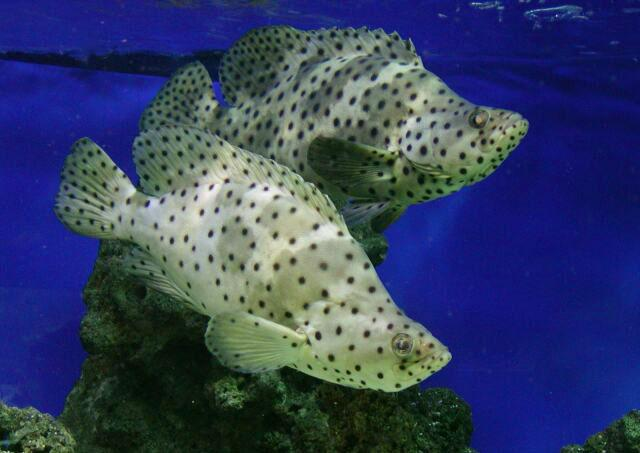Mulut: (398, 326, 466, 388), (492, 97, 544, 157)
Sirip Anal: (107, 240, 191, 304)
Sirip Dada: (195, 306, 308, 380), (298, 124, 406, 194)
Sirip Ekor: (42, 131, 136, 245), (134, 54, 226, 128)
Sirip Punggung: (130, 118, 342, 234), (212, 16, 424, 98)
